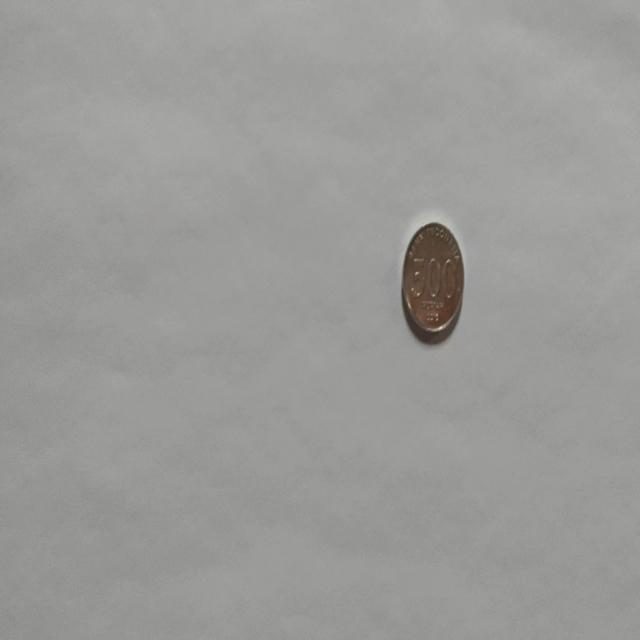lima ratus rupiah: (400, 220, 464, 342)
